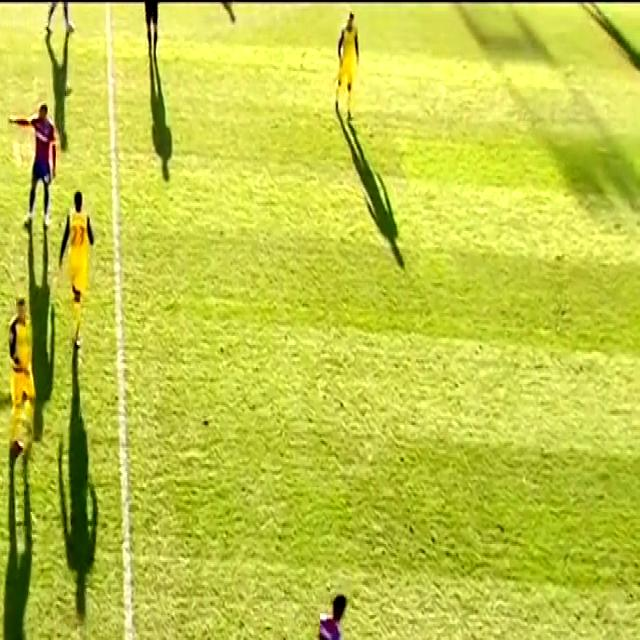soccer-player: (6, 99, 70, 229), (0, 290, 45, 471), (49, 191, 102, 316), (280, 590, 367, 640), (333, 11, 366, 128), (43, 0, 81, 50)
